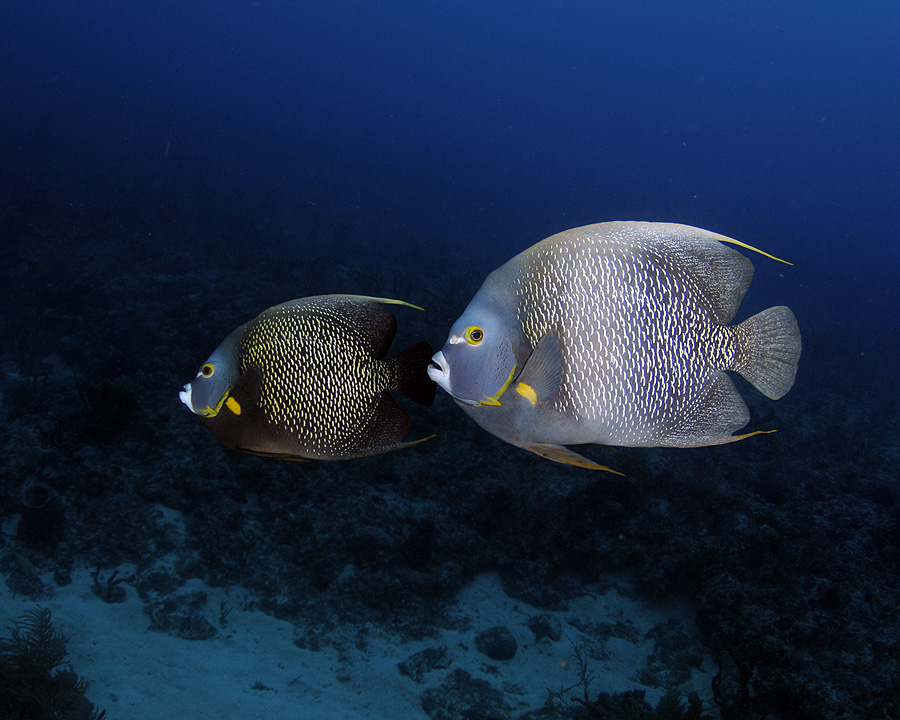Pomacanthus_paru: (423, 205, 802, 492), (150, 270, 421, 490)
